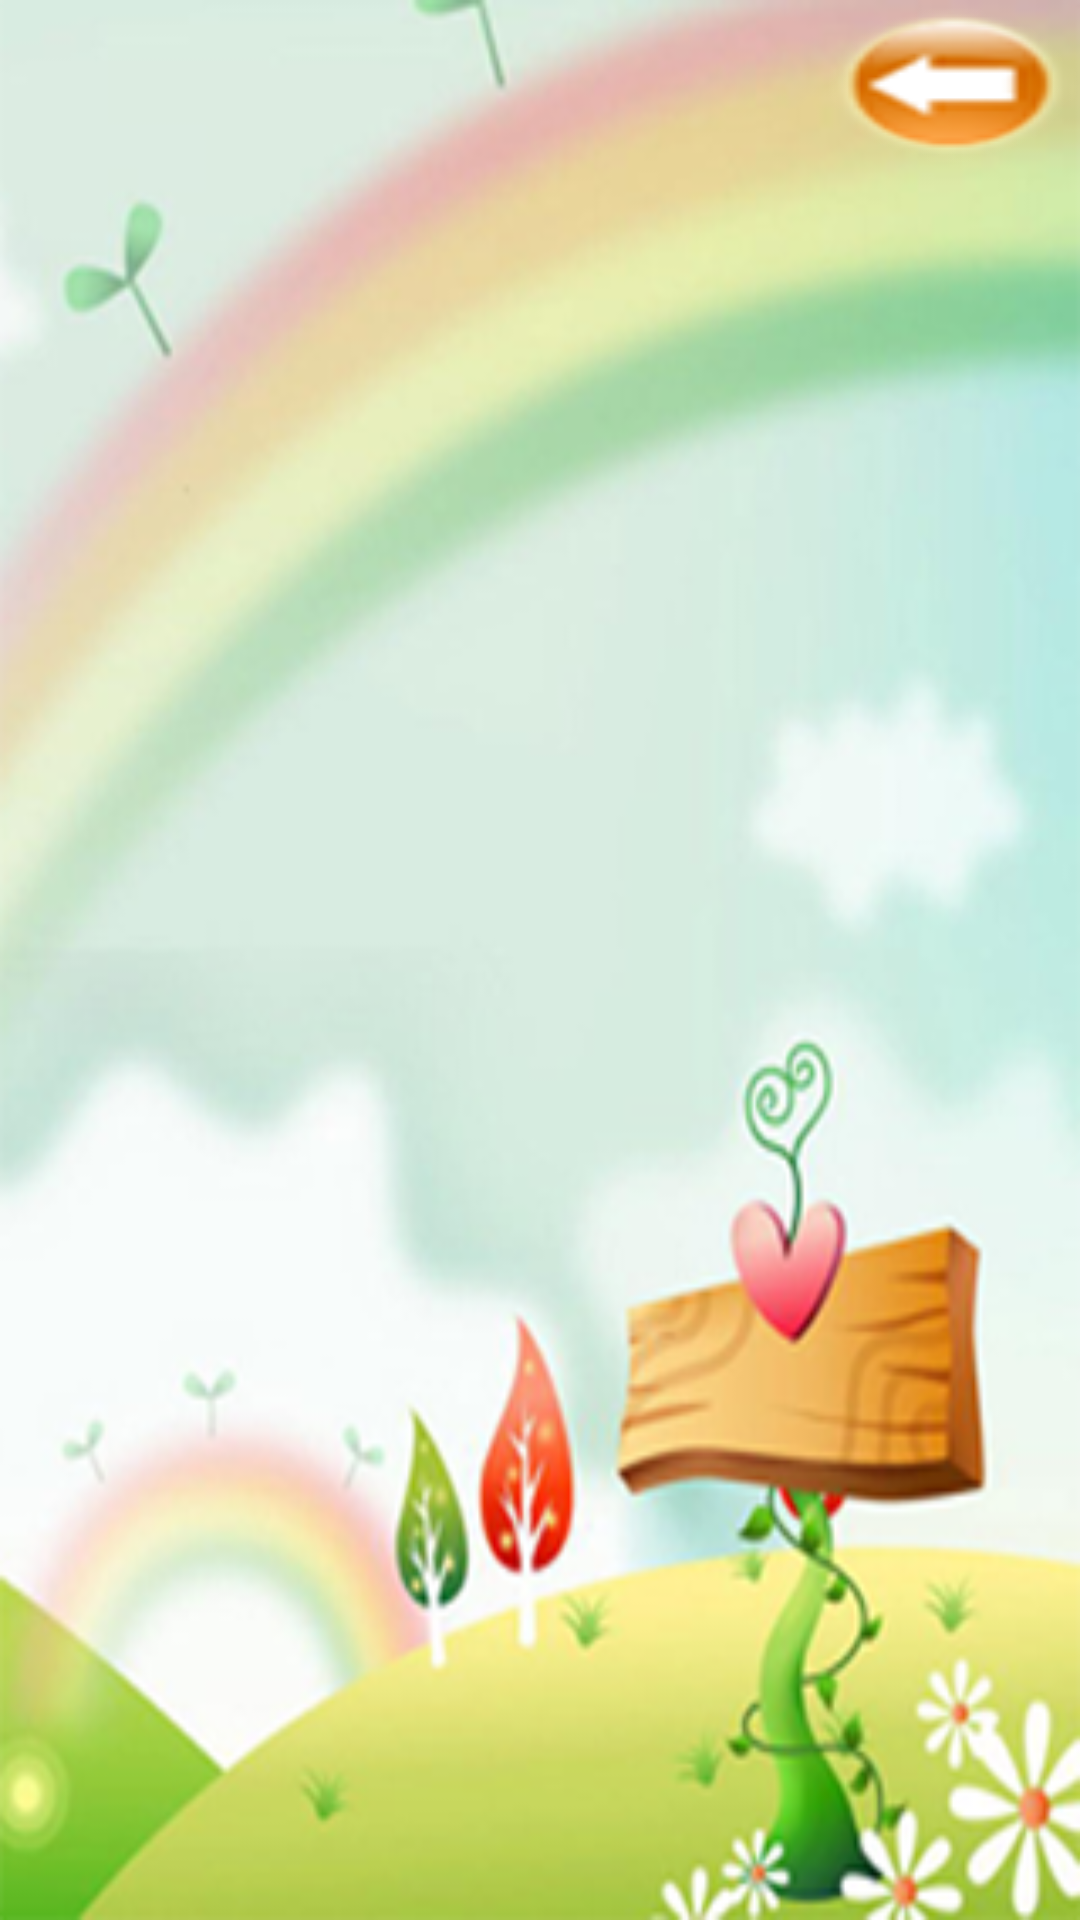

Locate icon controls on the screen. Image size 1080*1920, boxes as box=[x1, y1, x2, y2].
goback: box=[850, 35, 1051, 146]
